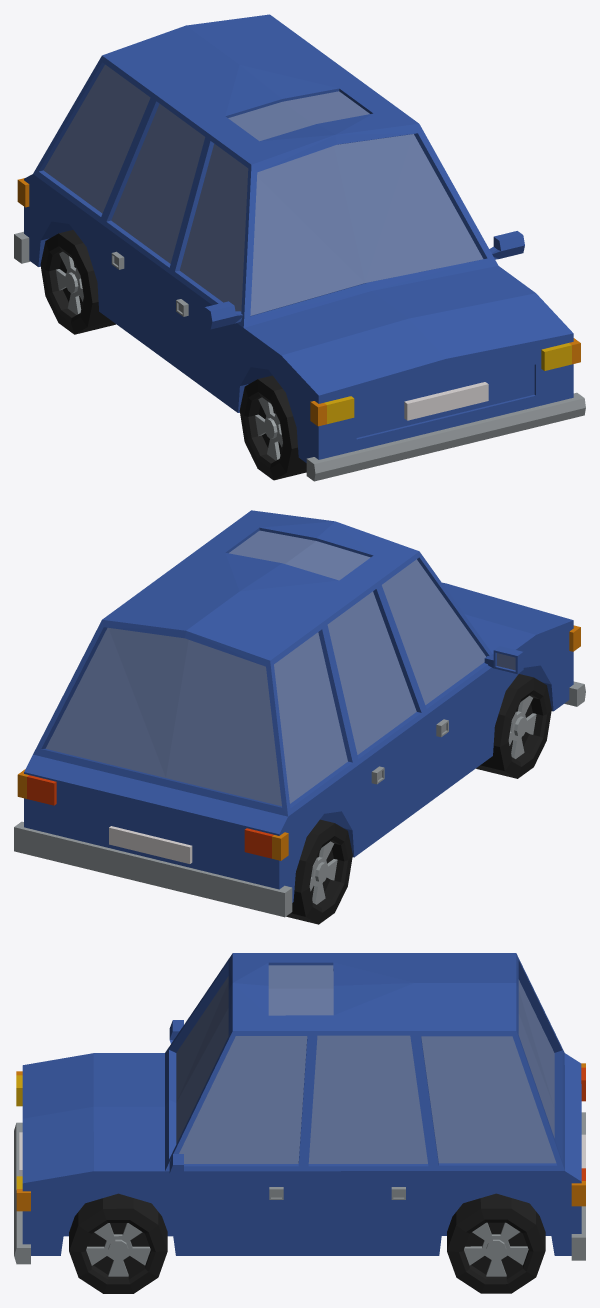
Rendered from Car_03.fbx.
The picture shows the model from 3 angles, top to bottom: view 1: azimuth 30°, elevation 25°; view 2: azimuth 150°, elevation 25°; view 3: azimuth 270°, elevation 25°; orthographic projection. The views are drawn at different scales.
Visible parts, largest first — view 1: Car_03; view 2: Car_03; view 3: Car_03.
Boxes of the visible parts, x1,y1,x2,y2 form: Car_03: [14, 14, 585, 481]; Car_03: [14, 510, 585, 924]; Car_03: [14, 953, 585, 1293].
Size of the model in its own units: 4.91 by 3.96 by 8.19.
